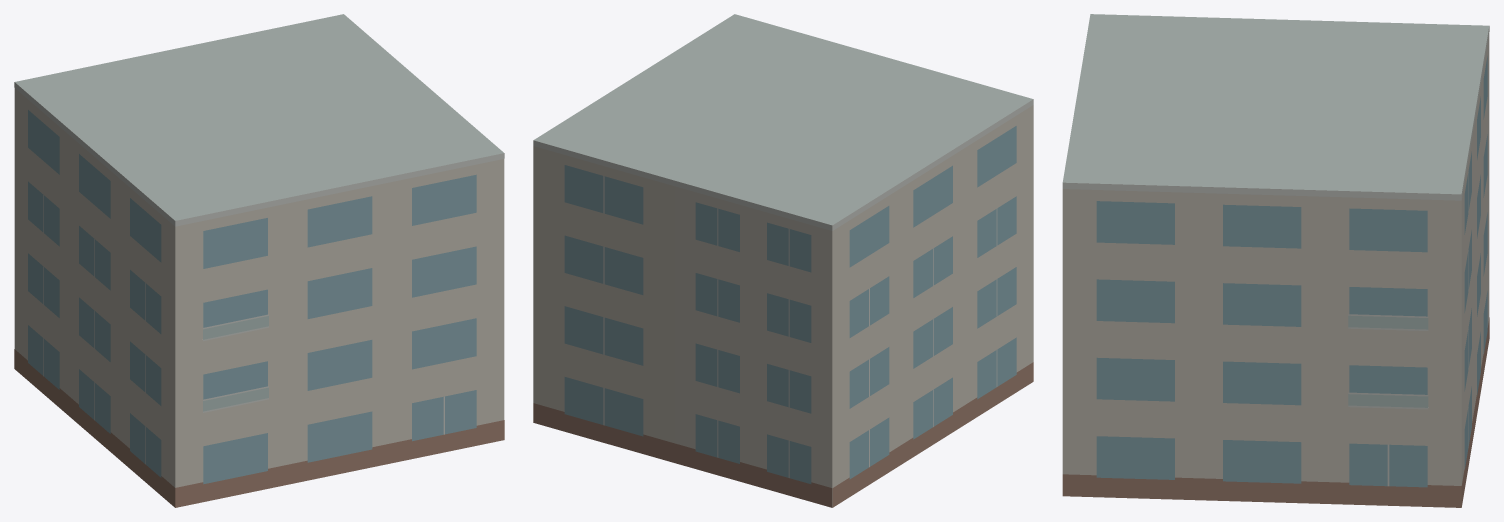
The model's file is residential-bf12975e-9d2e-4f1b-8254-e2a444e0c3b8.glb.
3 renders of one model, left to right at view 1: azimuth 30°, elevation 25°; view 2: azimuth 150°, elevation 25°; view 3: azimuth 270°, elevation 25°, orthographic. The views are drawn at different scales.
Parts seen in each view (by area): view 1: residential-bf12975e-9d2e-4f1b-8254-e2a444e0c3b8.tmp; view 2: residential-bf12975e-9d2e-4f1b-8254-e2a444e0c3b8.tmp; view 3: residential-bf12975e-9d2e-4f1b-8254-e2a444e0c3b8.tmp.
Boxes of the visible parts, bbox=[...] form: residential-bf12975e-9d2e-4f1b-8254-e2a444e0c3b8.tmp: bbox=[14, 14, 504, 507]; residential-bf12975e-9d2e-4f1b-8254-e2a444e0c3b8.tmp: bbox=[533, 14, 1033, 507]; residential-bf12975e-9d2e-4f1b-8254-e2a444e0c3b8.tmp: bbox=[1062, 14, 1489, 507].
Bounding box in the file's own units: 15.07 × 12.2 × 15.06.
